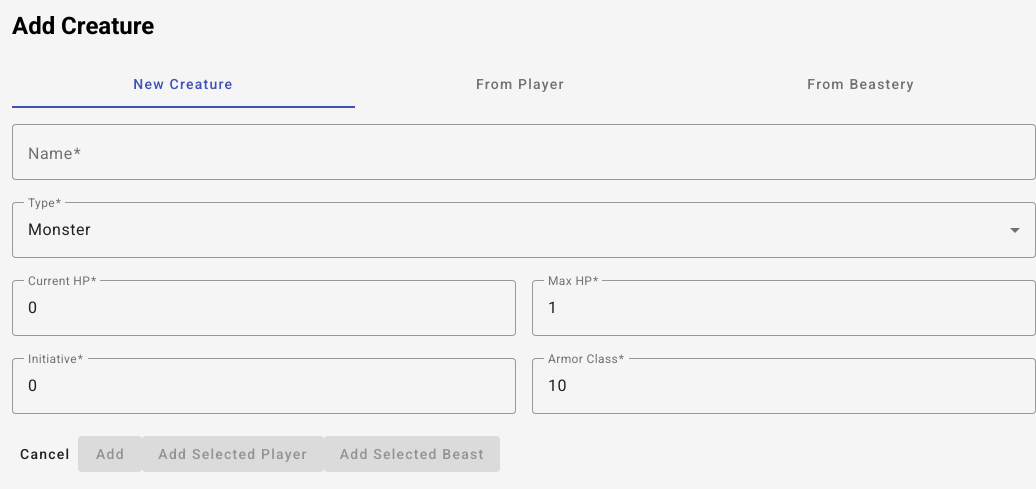
Scenario: CreatureDialogComponent › From Beastery Tab › should show empty state when no beasts exist
This screenshot has width=1036, height=489.
Click the tab "From Beastery" at x=861, y=84, box [807,76,915,92]
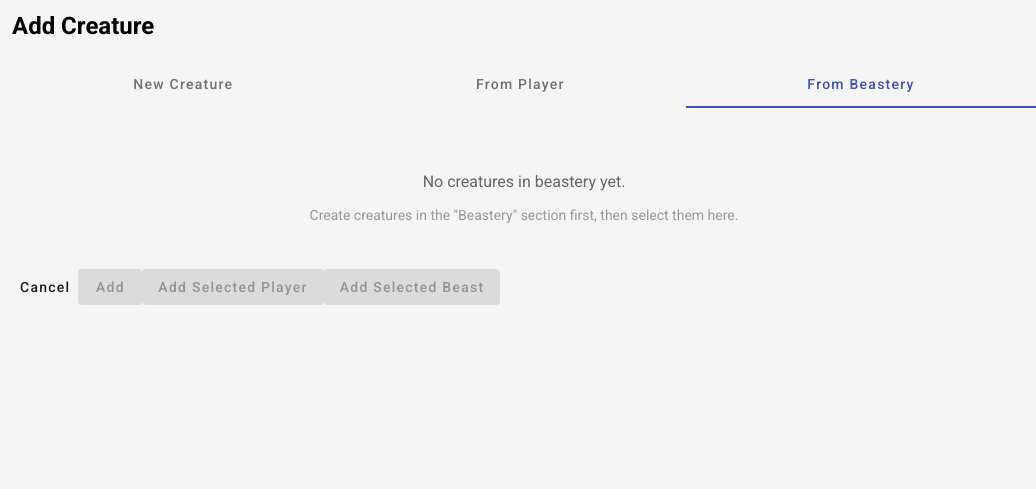
Expected: the text "No creatures in beastery yet." is shown, [423,172,625,191]
